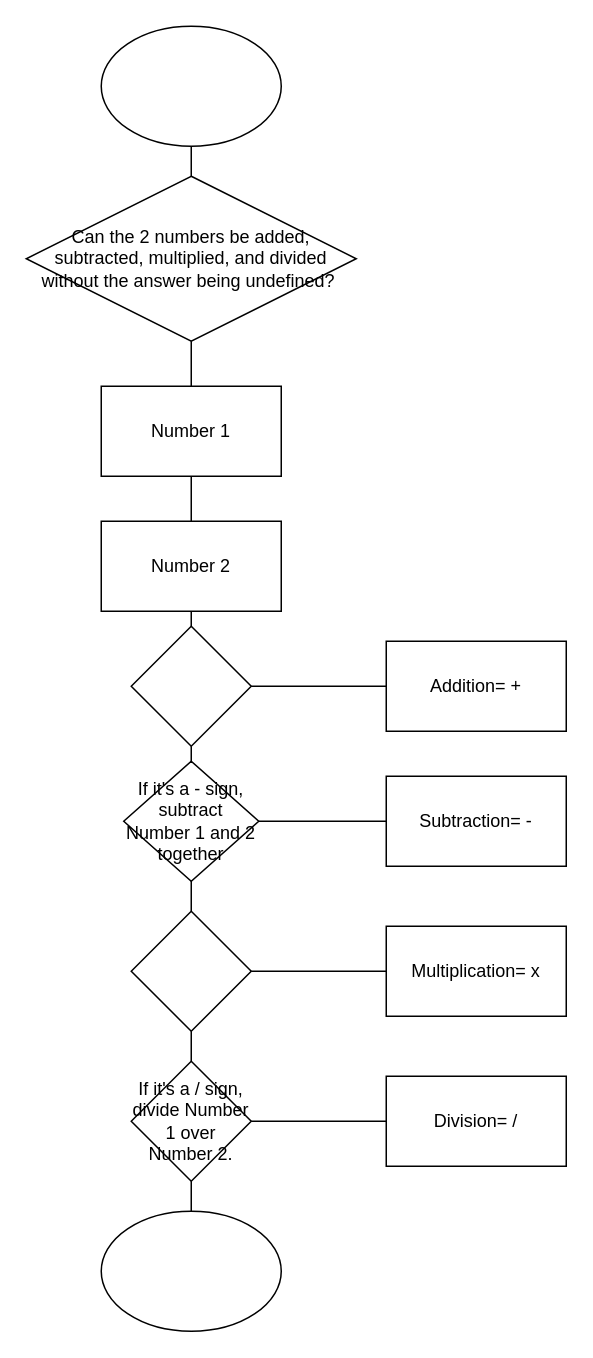
This 593x1358 diagram has some shape labels left out. The shapes that lost their labels are listed below. From the top down, each one's centre as x and y in pixels, then its label:
At (190,85): "Start".
At (190,685): "If it's a + sign add Number 1 and 2 together".
At (190,970): "If it's a x sign, multiply Number 1 and 2 together.".
At (190,1270): "End".
